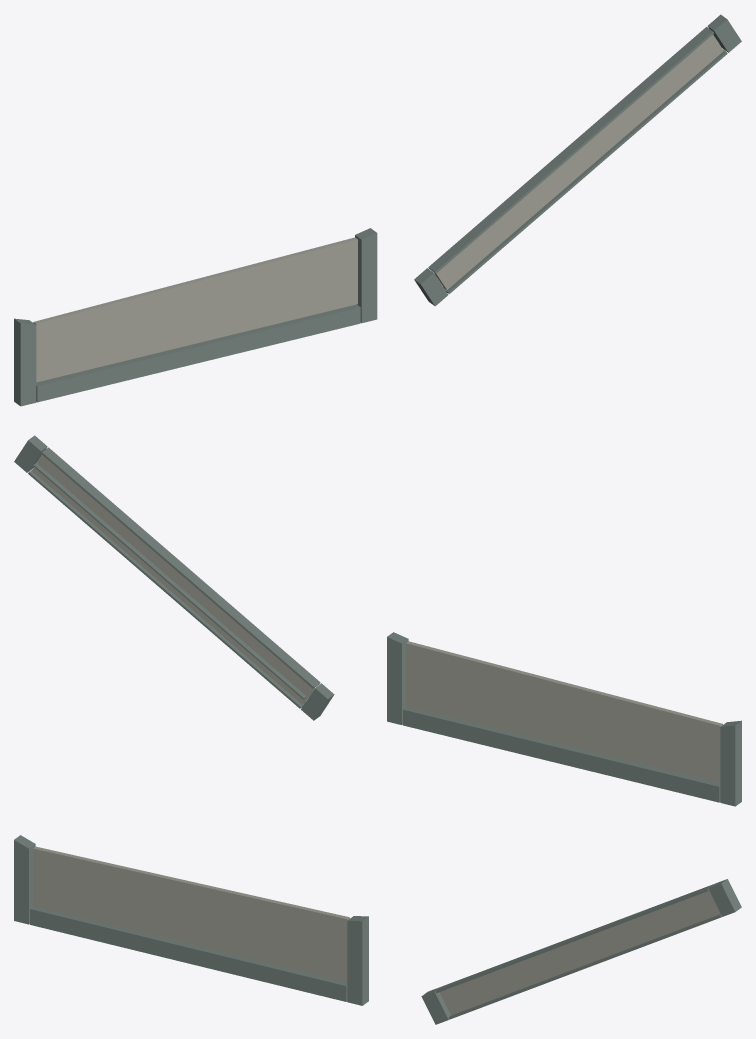
Rendered from SM_PuertaViaDoble_v1_ChapaOndulada_e2_MuyDanado_LOD1.fbx.
3 views of the same model, one above another, from view 1: azimuth 30°, elevation 25°; view 2: azimuth 150°, elevation 25°; view 3: azimuth 330°, elevation 25° (orthographic). The views are drawn at different scales.
Parts seen in each view (by area): view 1: Hoja_O, Hoja_E; view 2: Hoja_O, Hoja_E; view 3: Hoja_O, Hoja_E.
Boxes of the visible parts, x1,y1,x2,y2 form: Hoja_O: [14, 228, 377, 406]; Hoja_E: [414, 14, 741, 306]; Hoja_O: [387, 632, 741, 806]; Hoja_E: [14, 435, 334, 720]; Hoja_O: [14, 835, 368, 1005]; Hoja_E: [421, 879, 741, 1024].
Size of what is drawn, in the model's own units: 7.53 by 2.13 by 0.315.
